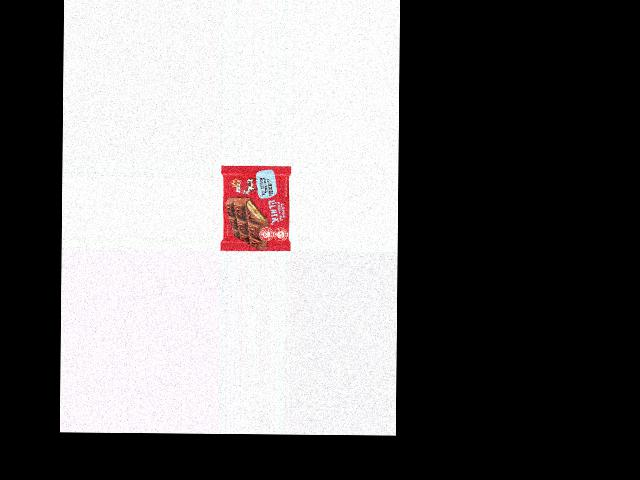chocolate: (221, 168, 292, 250)
